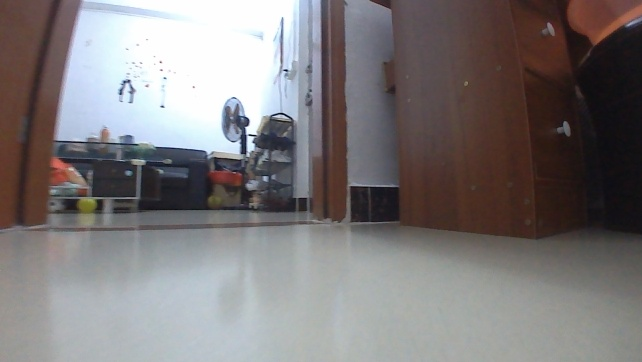sofa1: (159, 142, 210, 209)
tea_table1: (49, 135, 165, 217)
